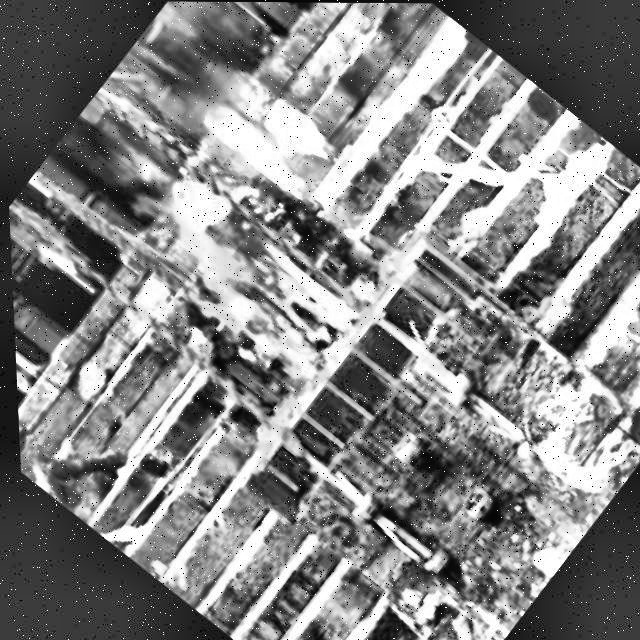Fire: (118, 171, 364, 394)
